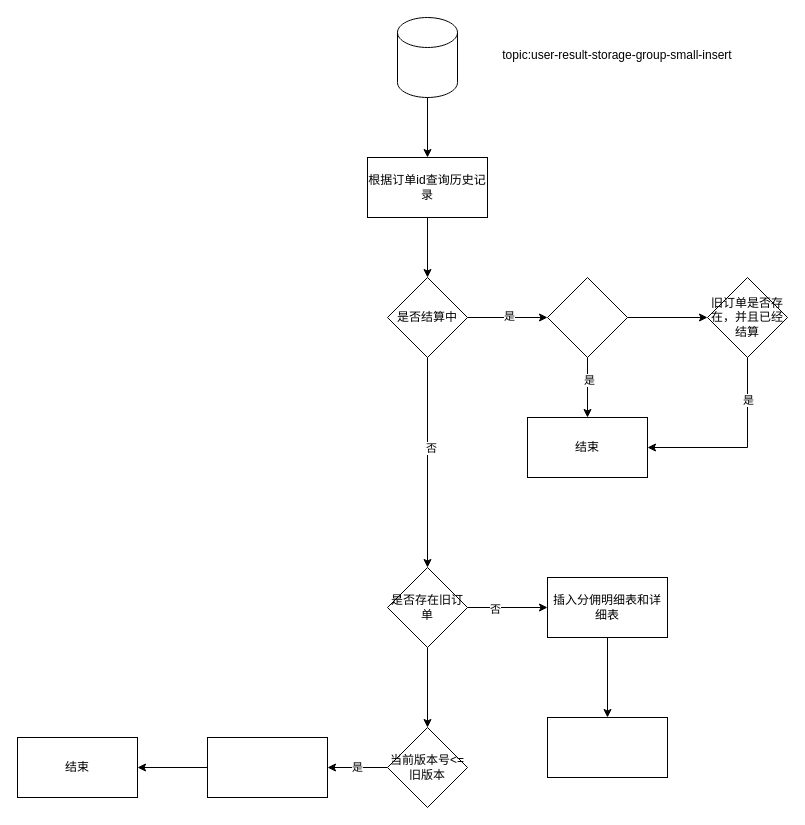
Some shapes in this 805 by 825 pixel diagram are drawn without their labels. Here are the shapes that lost their labels. From the top down, the centre of each, then its label:
point (427, 57): mq
point (587, 317): 当前订单是否上个月，并且订单结束中
point (267, 767): 删除普通用户分佣表
point (607, 747): 插入结算记录表
